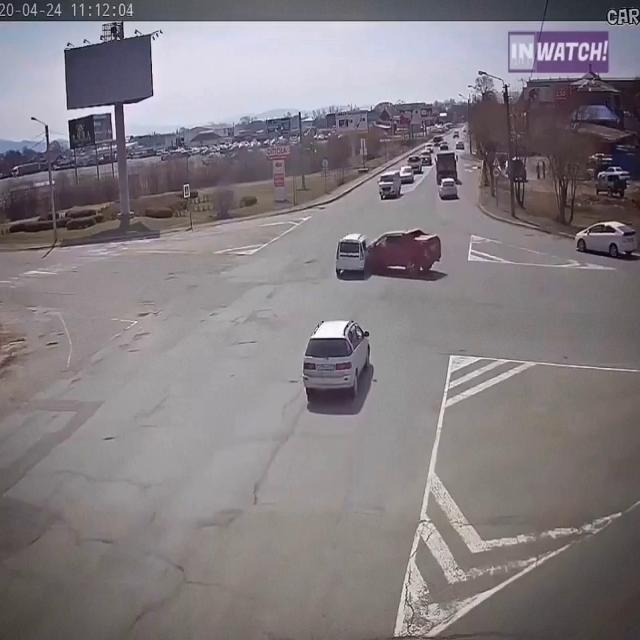accident: (335, 229, 442, 281)
